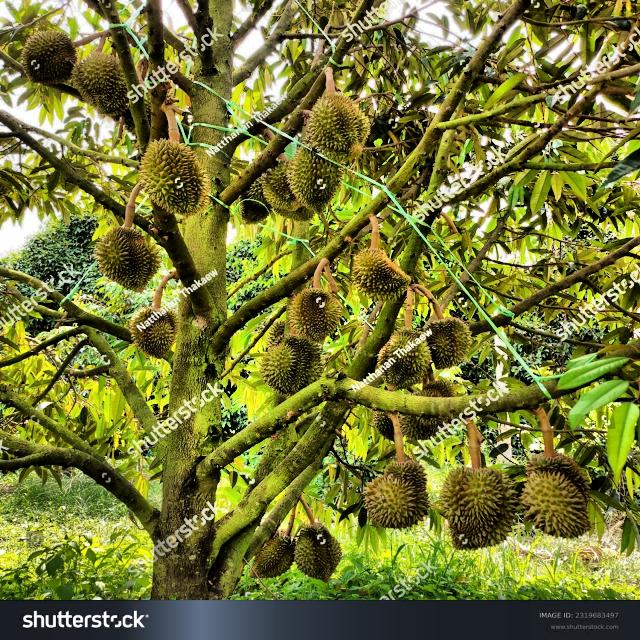arvore: (147, 4, 267, 599)
